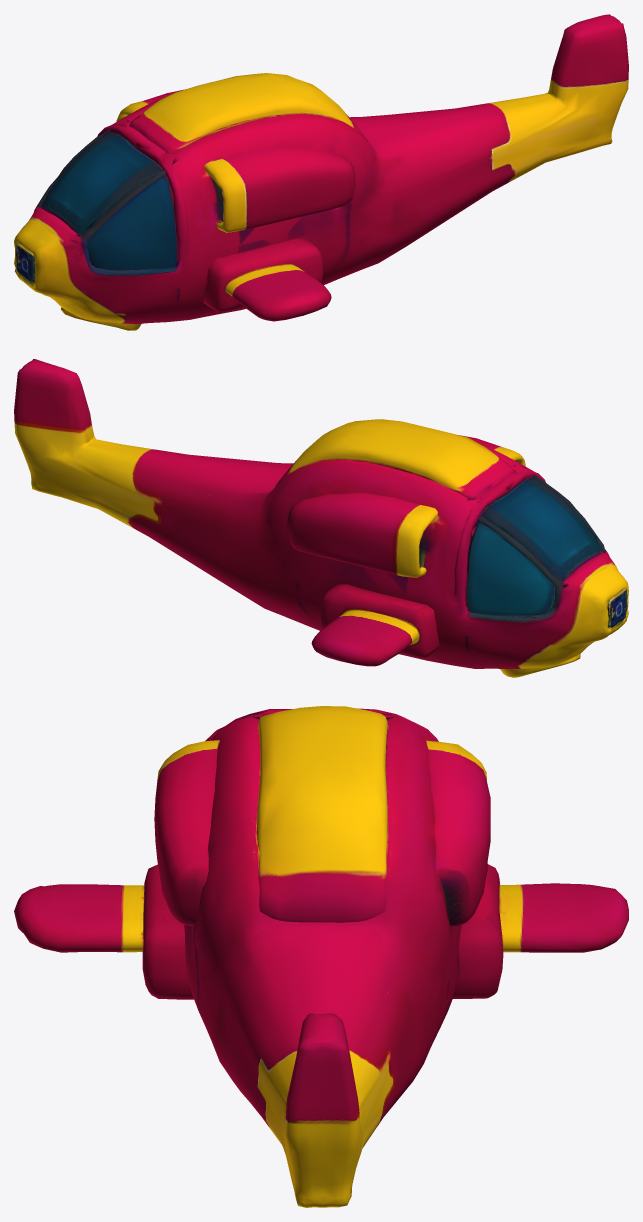
File: Meshy_AI_Azure_and_Gold_Starfi_0714083111_texture.glb
3 views of the same model, one above another, from view 1: azimuth 30°, elevation 25°; view 2: azimuth 150°, elevation 25°; view 3: azimuth 270°, elevation 25° (orthographic). The views are drawn at different scales.
Size of the model in its own units: 1 by 0.335 by 0.6074.
1 material, 1 textured.
